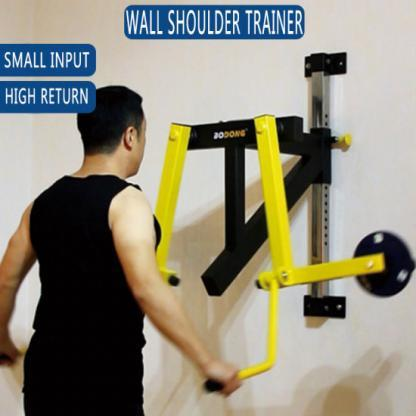lateral raises machine: (153, 49, 416, 400)
